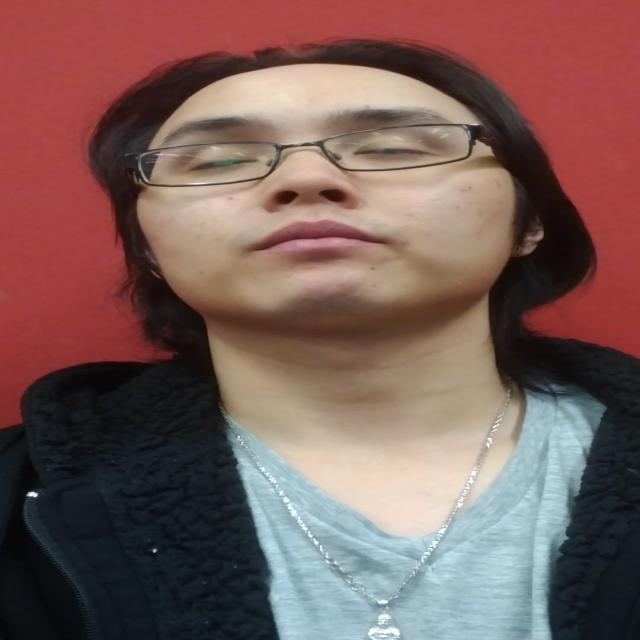Eyeclosed: (188, 144, 262, 183), (358, 135, 436, 167)
